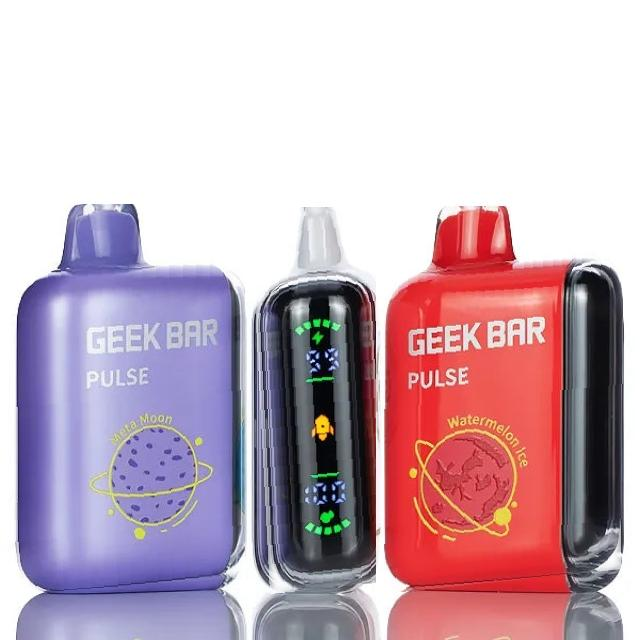Vapes: (384, 206, 624, 594), (13, 204, 245, 594), (250, 207, 376, 594)
